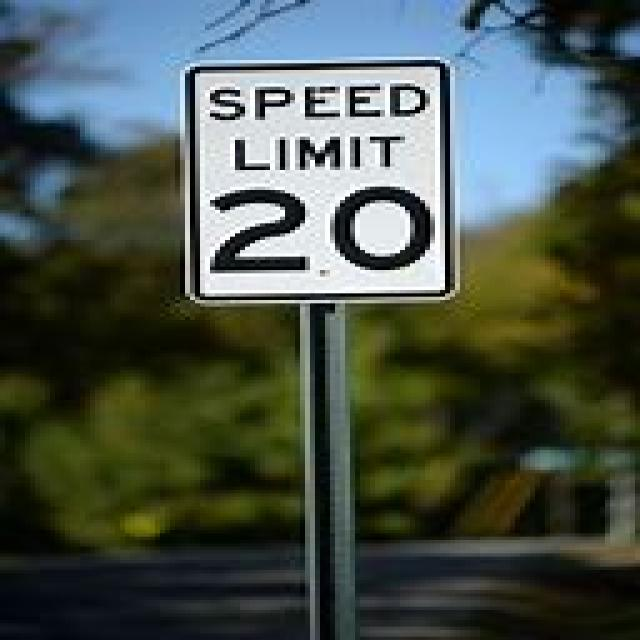speedLimit20: (185, 65, 455, 308)
